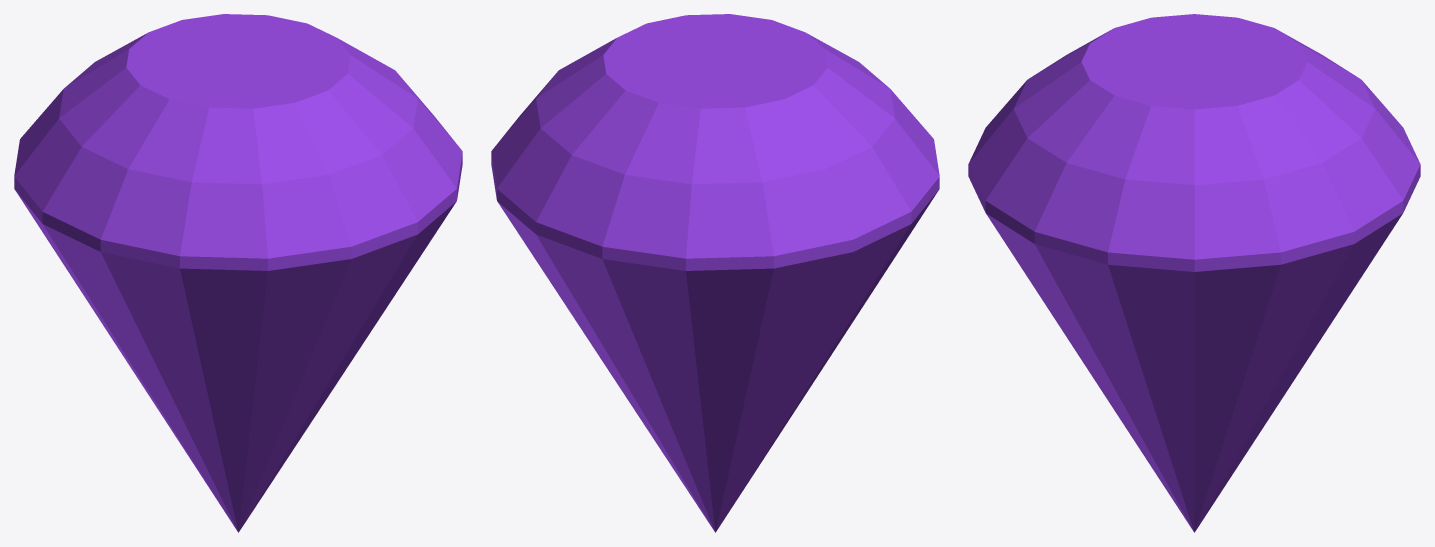
The model's file is SM_Amethyst_Perfect.fbx.
3 renders of one model, left to right at view 1: azimuth 30°, elevation 25°; view 2: azimuth 150°, elevation 25°; view 3: azimuth 270°, elevation 25°, orthographic.
Parts seen in each view (by area): view 1: SM_Amethyst_Perfect; view 2: SM_Amethyst_Perfect; view 3: SM_Amethyst_Perfect.
Boxes of the visible parts, left/top/right/bottom form: SM_Amethyst_Perfect: left=14, top=14, right=462, bottom=532; SM_Amethyst_Perfect: left=491, top=14, right=939, bottom=532; SM_Amethyst_Perfect: left=968, top=14, right=1420, bottom=532.
Size of the model in its own units: 20 by 20 by 23.
